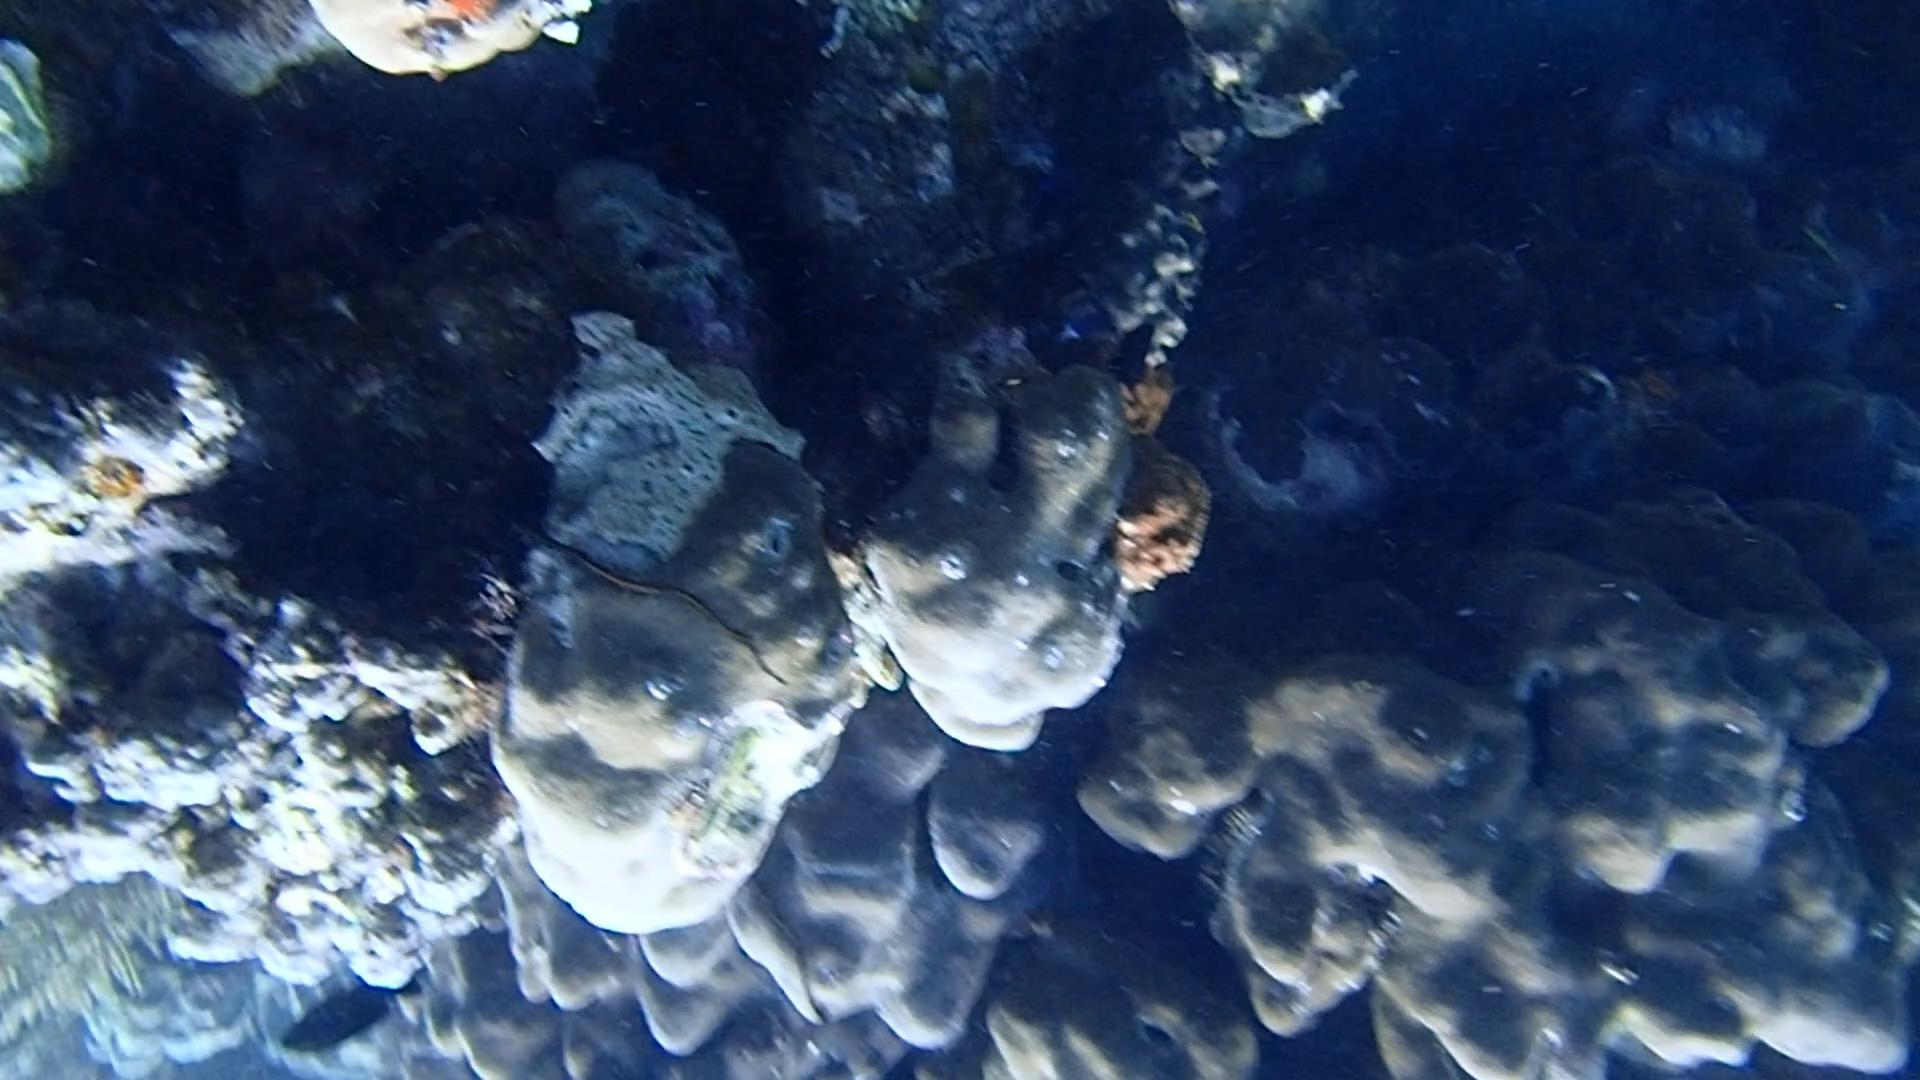Dark Fish: (268, 957, 427, 1064), (1095, 305, 1167, 392)
